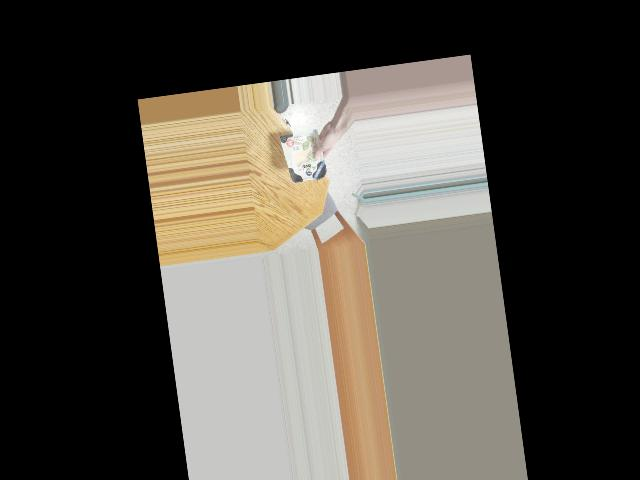cheese: (284, 119, 331, 189)
